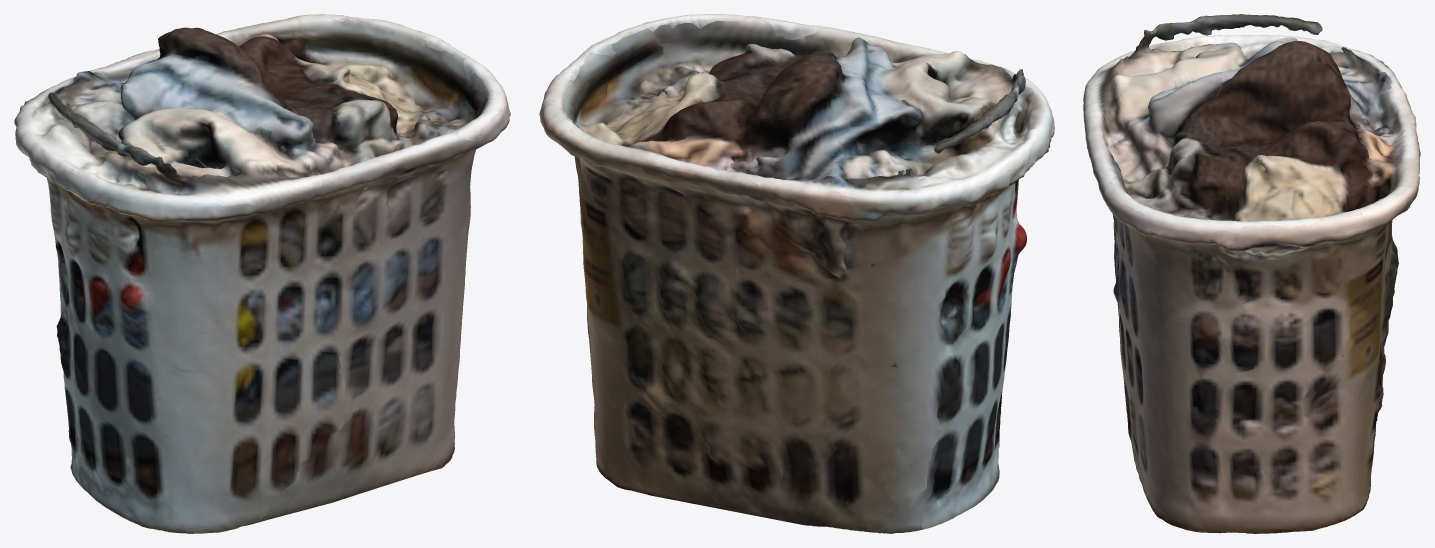
The model's file is laundry_basket_1__-_3d_scan.glb.
3 views of the same model, side by side, from view 1: azimuth 30°, elevation 25°; view 2: azimuth 150°, elevation 25°; view 3: azimuth 270°, elevation 25° (orthographic). The views are drawn at different scales.
Visible parts, largest first — view 1: laundry basket 1_0; view 2: laundry basket 1_0; view 3: laundry basket 1_0.
Part boxes in pixels (bbox=[...]): laundry basket 1_0: bbox=[14, 14, 510, 533]; laundry basket 1_0: bbox=[539, 14, 1054, 533]; laundry basket 1_0: bbox=[1083, 14, 1420, 533].
Size of the model in its own units: 0.4715 by 0.4432 by 0.3453.
1 material, 1 textured.
